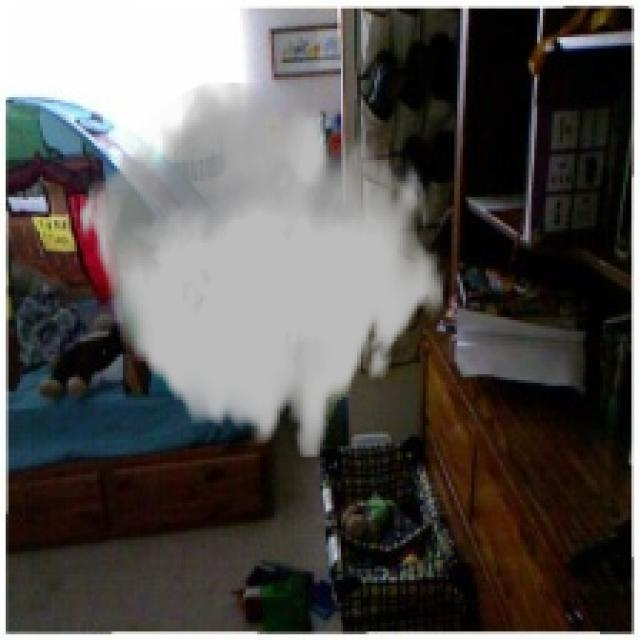smoke: (77, 83, 446, 457)
